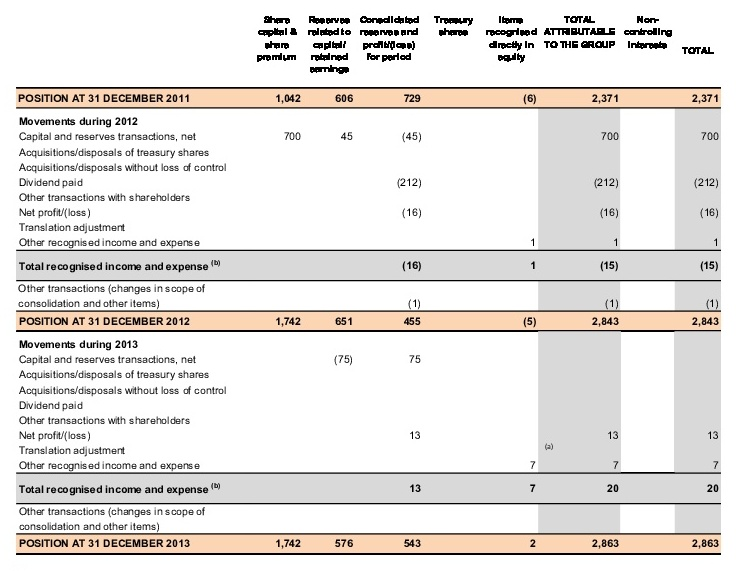table: (0, 0, 740, 571)
